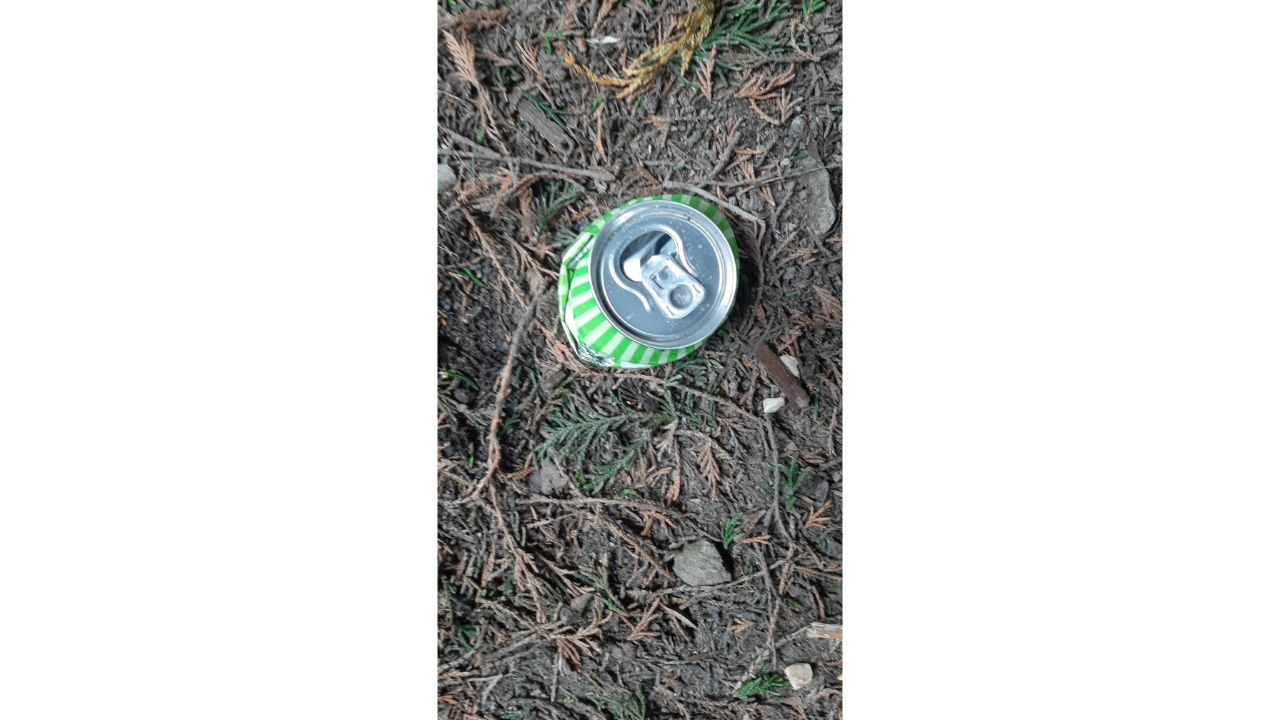Can: (556, 191, 742, 372)
